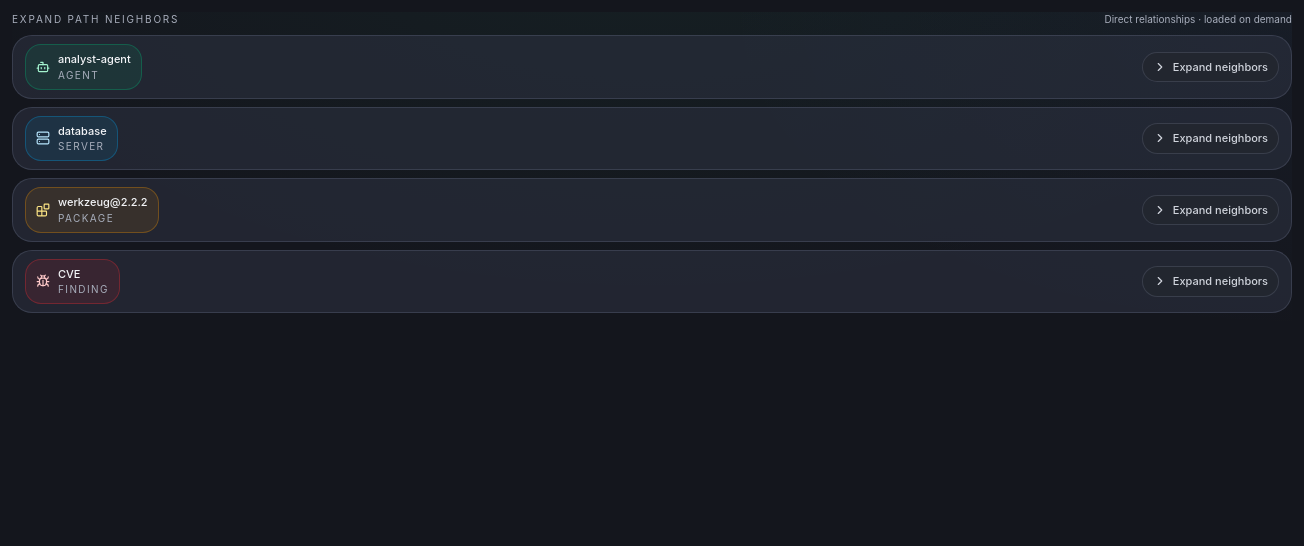
Test case: keeps blocked attempts distinct from observed execution
Step 1. Click the button with aria-label "Expand neighbors of database" → (1210,138), box [1142,123,1279,154]
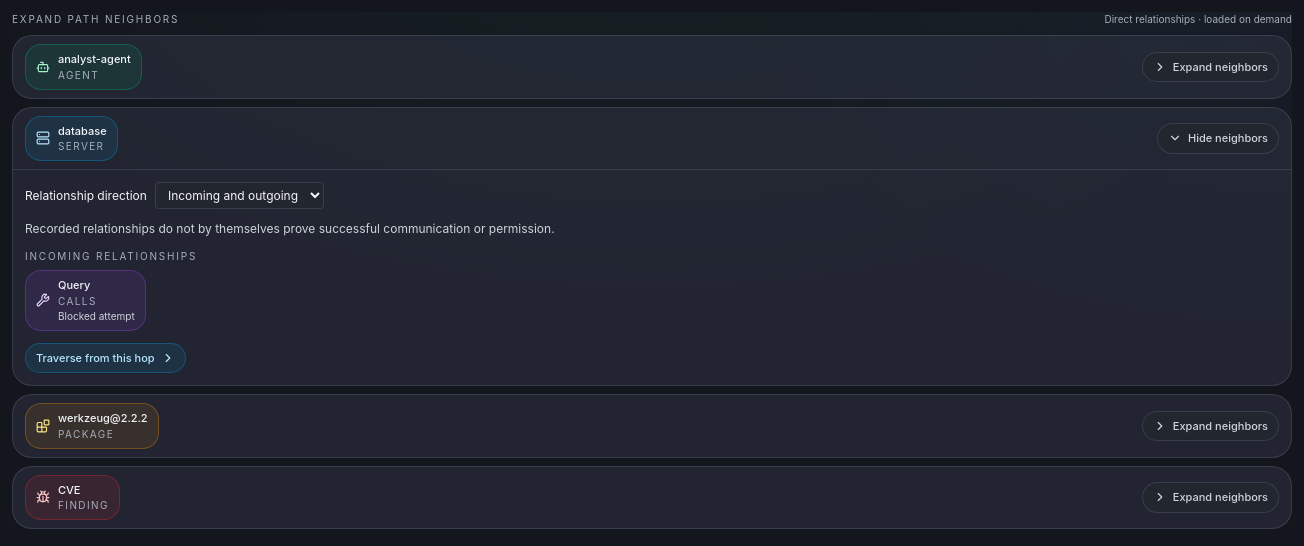
Expected: the text "Blocked attempt" is shown, [58,308,135,324]
Expected: the text "Incoming relationships" is shown, [25,250,197,262]
